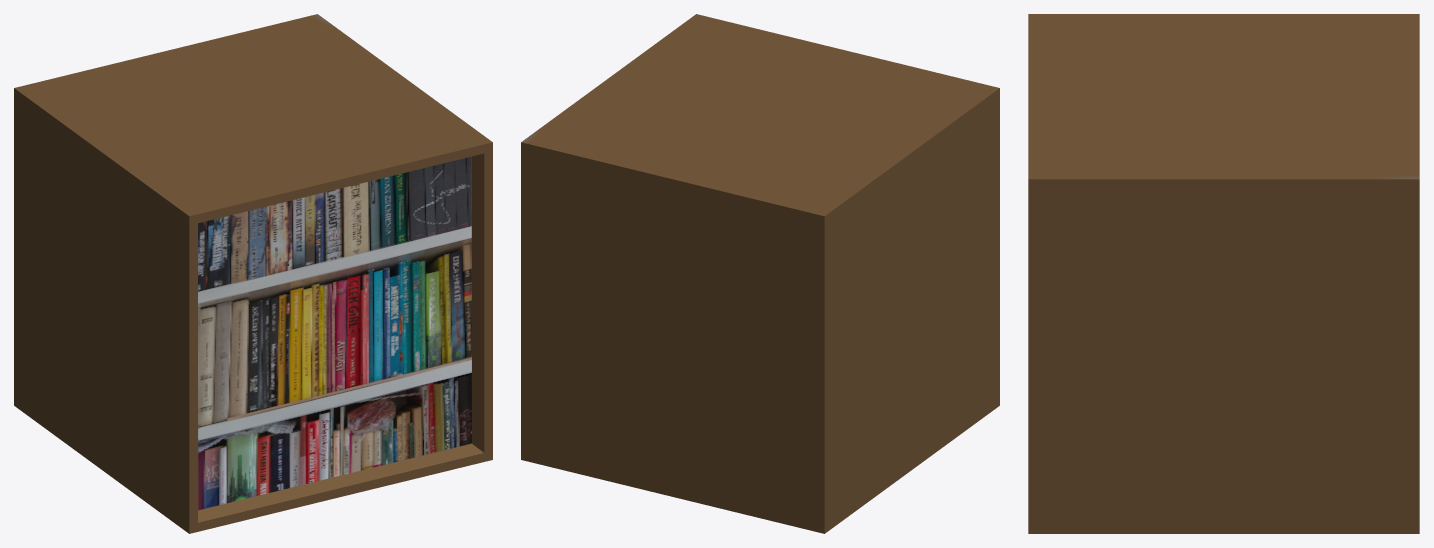
Rendered from bookshelf.glb.
The picture shows the model from 3 angles, left to right: view 1: azimuth 30°, elevation 25°; view 2: azimuth 150°, elevation 25°; view 3: azimuth 270°, elevation 25°; orthographic projection. The views are drawn at different scales.
Visible parts, largest first — view 1: bookshelf_bake; view 2: bookshelf_bake; view 3: bookshelf_bake.
Boxes of the visible parts, x1=… form: bookshelf_bake: x1=14, y1=14, x2=492, y2=533; bookshelf_bake: x1=521, y1=14, x2=999, y2=533; bookshelf_bake: x1=1028, y1=14, x2=1419, y2=533.
Bounding box in the file's own units: 1 × 1 × 1.
Materials: 1 (1 with a texture image).
